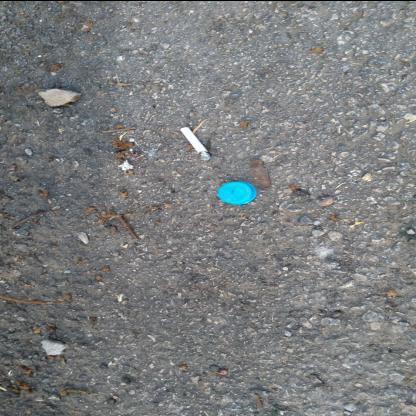plastik: (218, 181, 259, 205)
